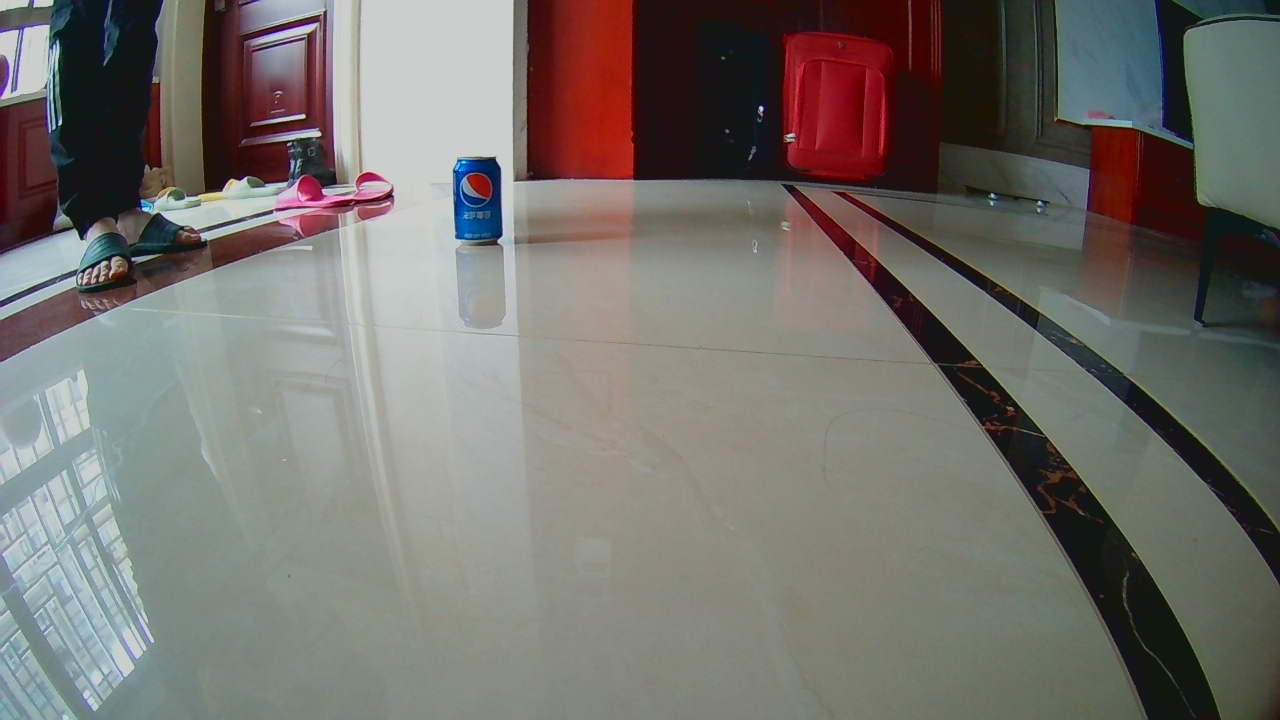pessi: (444, 161, 502, 243)
